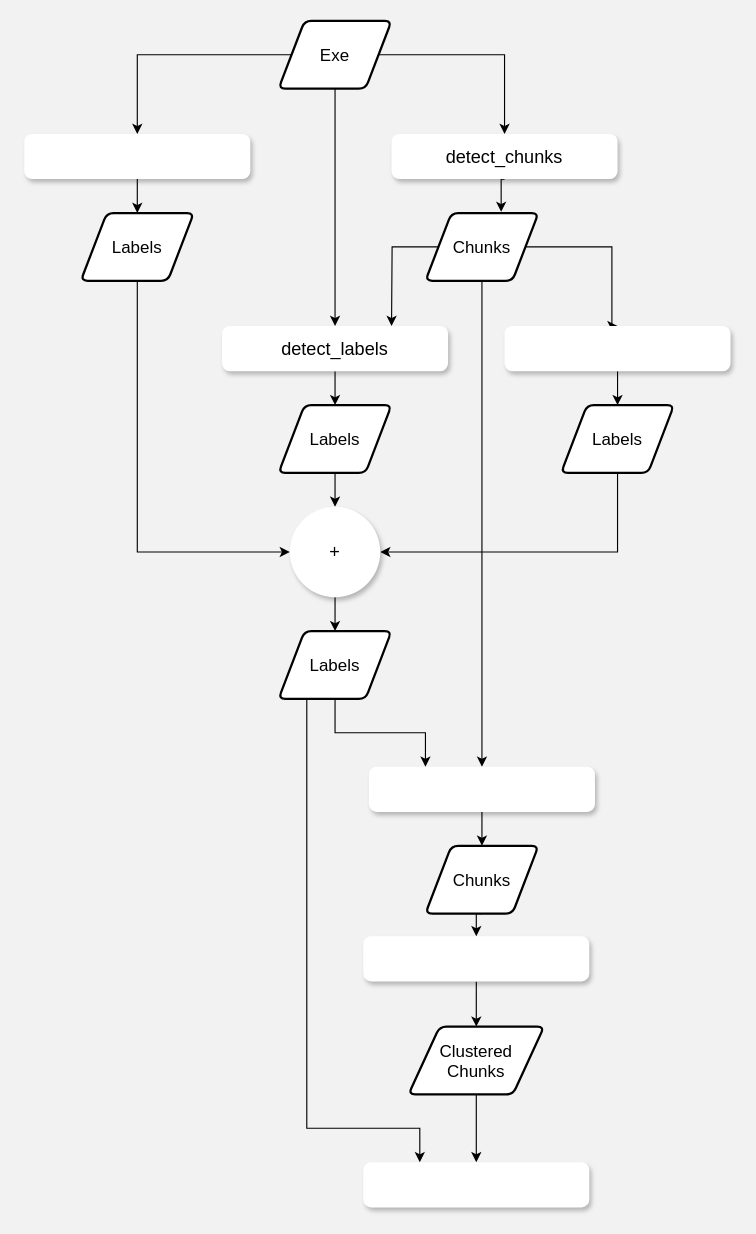
This 756x1234 diagram has some shape labels left out. The shapes that lost their labels are listed below. From the top down, each one's centre as x and y in pixels, then its label:
At (x=138, y=157): "make_imported_labels".
At (x=618, y=350): "detect_function_prologues".
At (x=482, y=790): "split_up_chunks".
At (x=477, y=960): "cluster_chunks".
At (x=477, y=1186): "disassemble_clusters".
